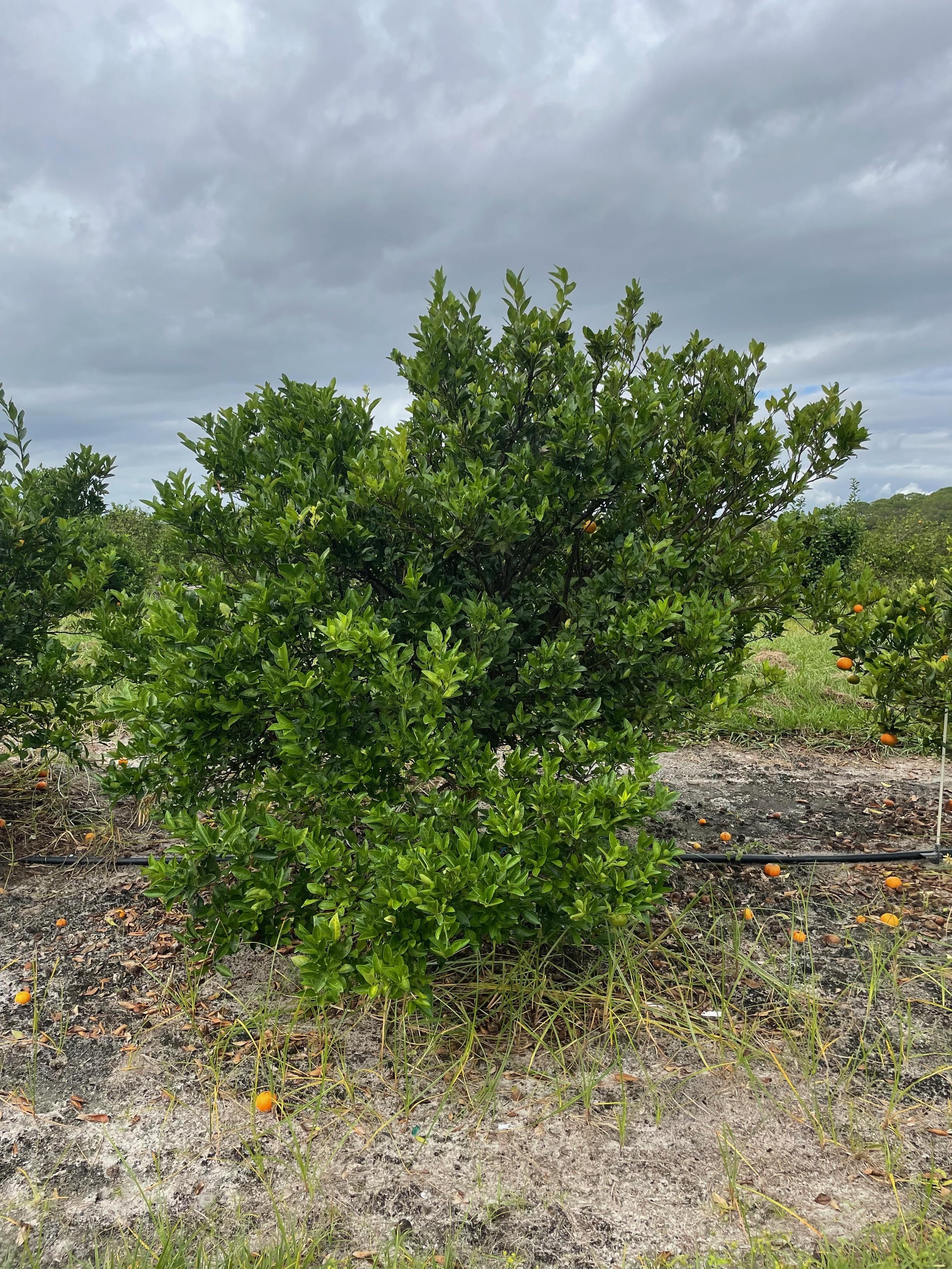fruit_on_ground: (606, 909, 630, 929), (878, 729, 900, 748), (580, 517, 599, 536), (835, 655, 854, 672), (845, 670, 862, 686), (116, 755, 130, 767), (852, 603, 864, 615)
fruit_on_tree: (253, 1087, 279, 1114), (12, 988, 33, 1008), (880, 910, 901, 928), (762, 861, 782, 878), (821, 931, 842, 946), (884, 874, 903, 890), (790, 927, 808, 943), (740, 906, 756, 921), (82, 829, 97, 844), (34, 779, 49, 792), (718, 830, 733, 843), (36, 767, 51, 779), (54, 915, 68, 927), (854, 913, 868, 925), (881, 797, 895, 808), (697, 816, 708, 826), (772, 811, 782, 820), (692, 842, 702, 850)
